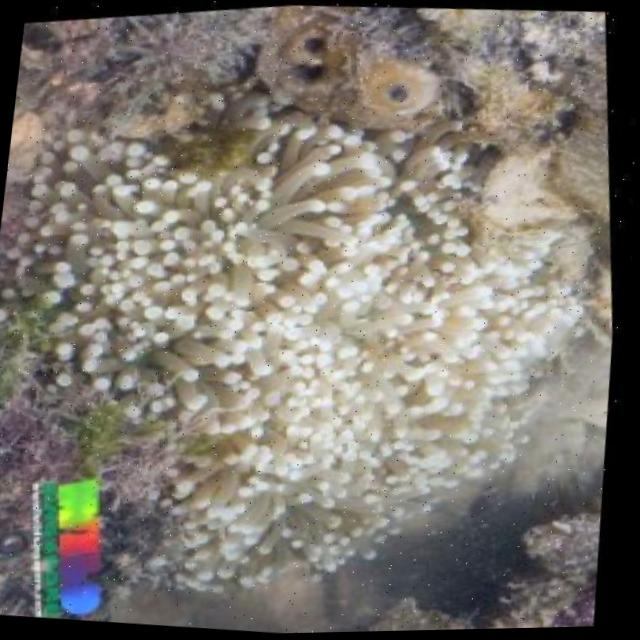Bleached Coral: (6, 27, 639, 640)
